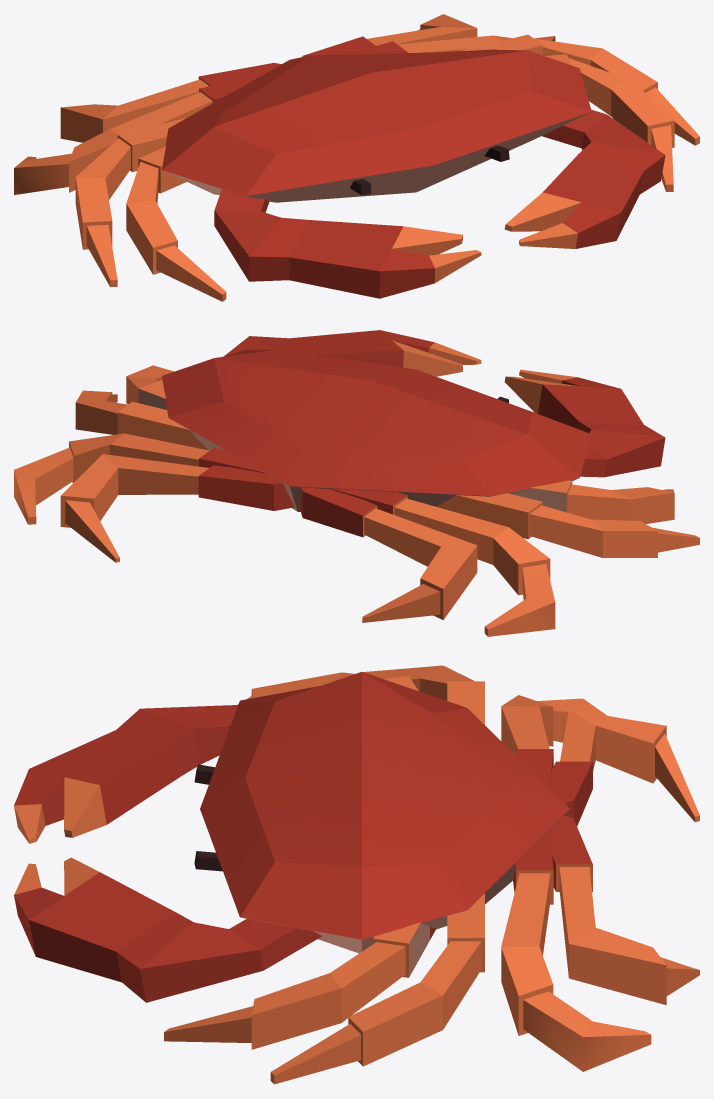
File: sea_crab.glb
3 views of the same model, one above another, from view 1: azimuth 30°, elevation 25°; view 2: azimuth 150°, elevation 25°; view 3: azimuth 270°, elevation 25° (orthographic). The views are drawn at different scales.
Parts seen in each view (by area): view 1: Geo_Crab; view 2: Geo_Crab; view 3: Geo_Crab.
Part boxes in pixels (box(x1,y1,x2,y2)): Geo_Crab: box(14, 14, 699, 301); Geo_Crab: box(14, 330, 699, 636); Geo_Crab: box(14, 665, 699, 1084).
Bounding box in the file's own units: 100 × 19.42 × 78.77.
Materials: 1 (1 with a texture image).
